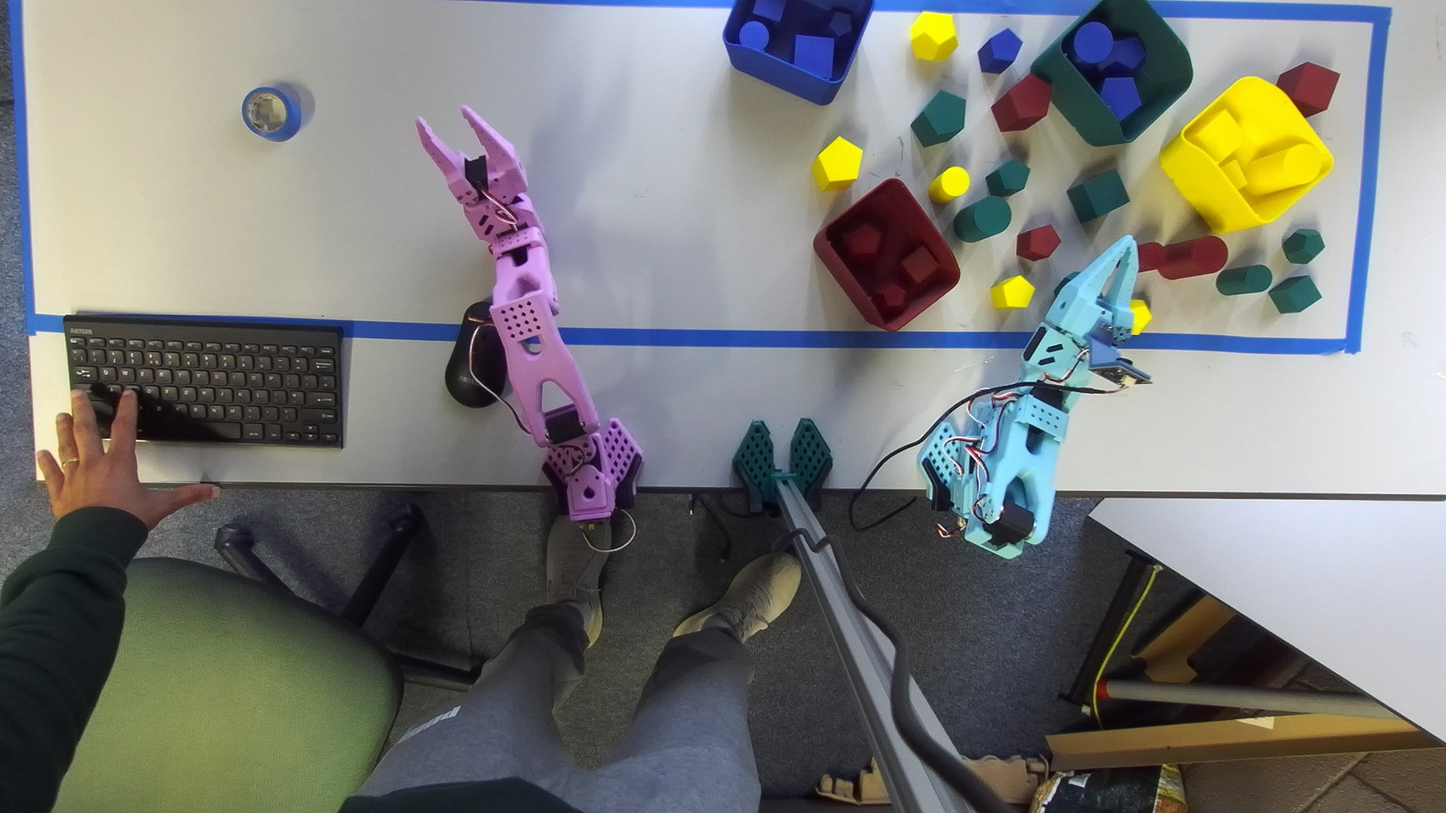bin: (1160, 76, 1332, 233), (1030, 0, 1192, 145), (813, 178, 959, 330), (723, 0, 872, 105)
cube: (1276, 62, 1340, 117), (1067, 169, 1129, 223), (1182, 109, 1243, 160), (1269, 276, 1321, 313), (794, 35, 834, 80), (901, 245, 937, 283), (753, 0, 786, 23), (1220, 159, 1246, 188)
cylinder: (1244, 143, 1319, 194), (1158, 236, 1228, 279), (953, 196, 1011, 242), (1073, 21, 1114, 65), (1216, 264, 1272, 295), (927, 166, 969, 203), (739, 21, 769, 51)
dodecahedron: (909, 11, 957, 60), (840, 221, 883, 265), (1282, 228, 1324, 263), (871, 282, 907, 315), (1109, 36, 1145, 69), (1130, 298, 1152, 334), (829, 12, 851, 35)
gripper: (416, 105, 538, 244), (1045, 235, 1138, 337)
hexagonal: (991, 73, 1051, 131), (911, 90, 966, 146), (811, 137, 862, 190), (978, 28, 1022, 74), (1100, 77, 1141, 120), (986, 159, 1030, 196), (1015, 225, 1060, 260), (990, 275, 1034, 308)
